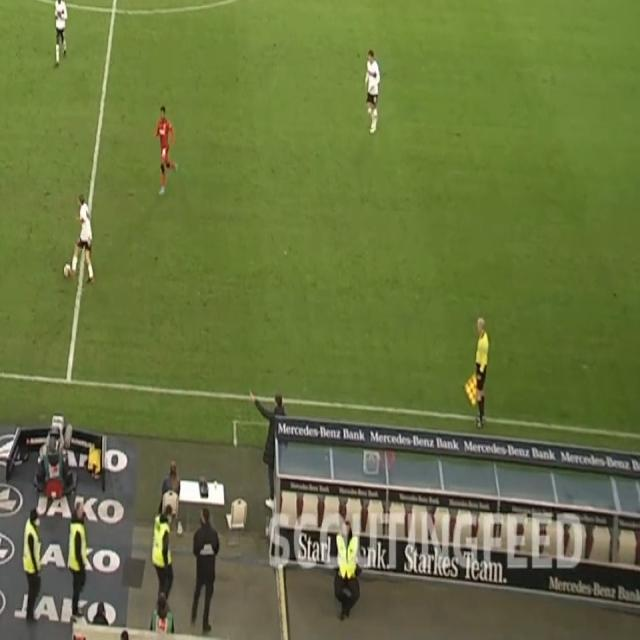ball: (64, 262, 72, 278)
